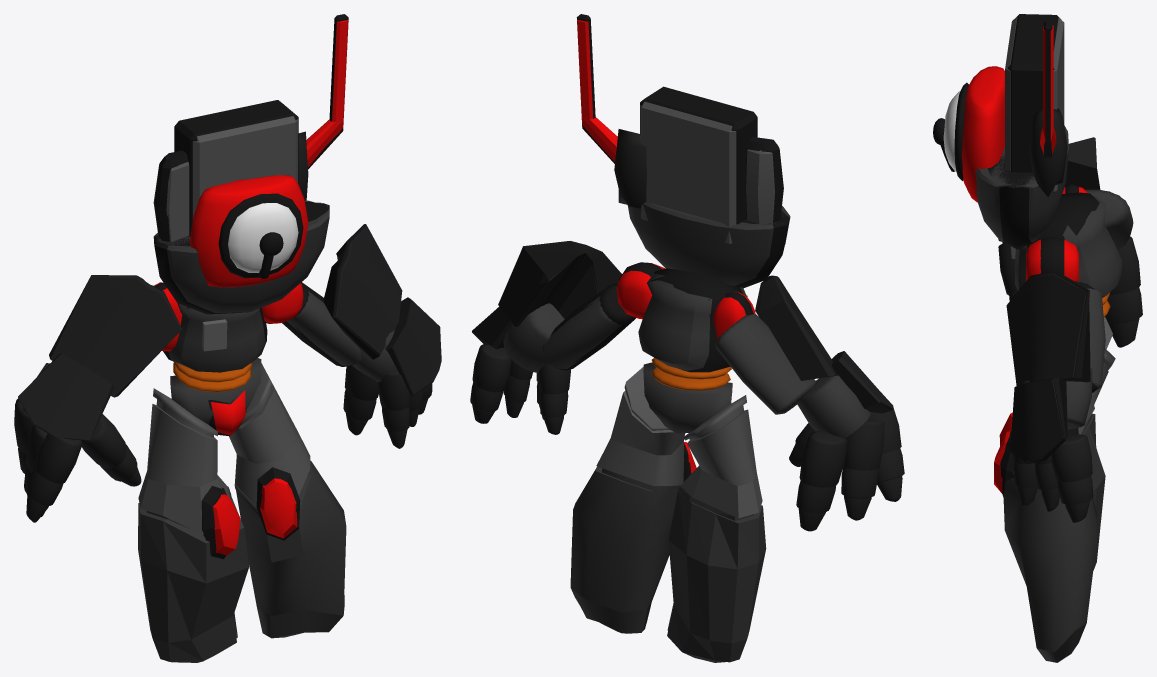
File: OldCharacter.fbx
3 views of the same model, side by side, from view 1: azimuth 30°, elevation 25°; view 2: azimuth 150°, elevation 25°; view 3: azimuth 270°, elevation 25° (orthographic). The views are drawn at different scales.
Parts seen in each view (by area): view 1: polySurface26, polySurface17, polySurface15, polySurface20, pCube32, polySurface18, polySurface8, polySurface16, pCube16, pCube4, torso, pCube9 (+28 smaller); view 2: polySurface17, polySurface26, pCube32, pCube16, polySurface20, polySurface18, polySurface32, torso, pCylinder7, polySurface15, group15, pCube33 (+23 smaller); view 3: polySurface17, polySurface8, pCube33, pCube4, polySurface14, torso, pCube16, group12, group15, pCube31, pCube8, pCube32 (+20 smaller).
Part boxes in pixels (bbox=[...]): polySurface26: bbox=[138, 488, 248, 662]; polySurface17: bbox=[234, 461, 346, 638]; polySurface15: bbox=[49, 275, 181, 397]; polySurface20: bbox=[138, 388, 230, 534]; pCube32: bbox=[192, 116, 297, 220]; polySurface18: bbox=[229, 363, 310, 506]; polySurface8: bbox=[335, 226, 402, 355]; polySurface16: bbox=[18, 353, 114, 440]; pCube16: bbox=[153, 200, 329, 313]; pCube4: bbox=[190, 175, 308, 287]; torso: bbox=[168, 303, 265, 372]; pCube9: bbox=[228, 203, 298, 272]; polySurface17: bbox=[570, 466, 680, 633]; polySurface26: bbox=[667, 486, 766, 662]; pCube32: bbox=[640, 101, 736, 243]; pCube16: bbox=[627, 203, 790, 285]; polySurface20: bbox=[680, 395, 762, 518]; polySurface18: bbox=[596, 367, 684, 485]; polySurface32: bbox=[498, 241, 621, 326]; torso: bbox=[638, 273, 746, 370]; pCylinder7: bbox=[715, 314, 815, 414]; polySurface15: bbox=[755, 275, 836, 380]; group15: bbox=[796, 431, 847, 531]; pCube33: bbox=[640, 86, 757, 224]; polySurface17: bbox=[1003, 478, 1098, 662]; polySurface8: bbox=[1007, 273, 1090, 385]; pCube33: bbox=[1007, 14, 1061, 192]; pCube4: bbox=[961, 66, 1004, 202]; polySurface14: bbox=[1010, 379, 1067, 462]; torso: bbox=[1015, 196, 1122, 297]; pCube16: bbox=[975, 125, 1068, 242]; group12: bbox=[1051, 434, 1093, 522]; group15: bbox=[1105, 236, 1142, 347]; pCube31: bbox=[987, 154, 1033, 249]; pCube8: bbox=[1028, 108, 1067, 196]; pCube32: bbox=[1005, 17, 1064, 191].
Size of what is drawn, in the model's own units: 35.73 by 49.7 by 14.5.
